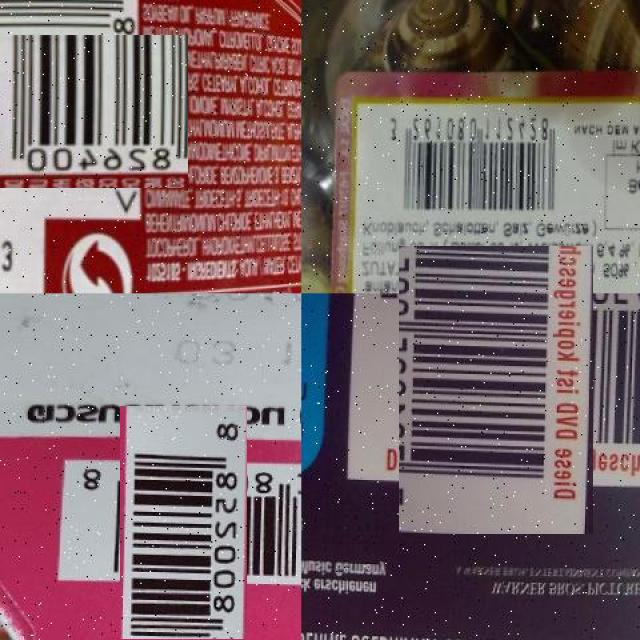Barcode: (375, 270, 617, 511), (93, 433, 274, 614), (0, 17, 171, 205), (381, 105, 570, 220)
